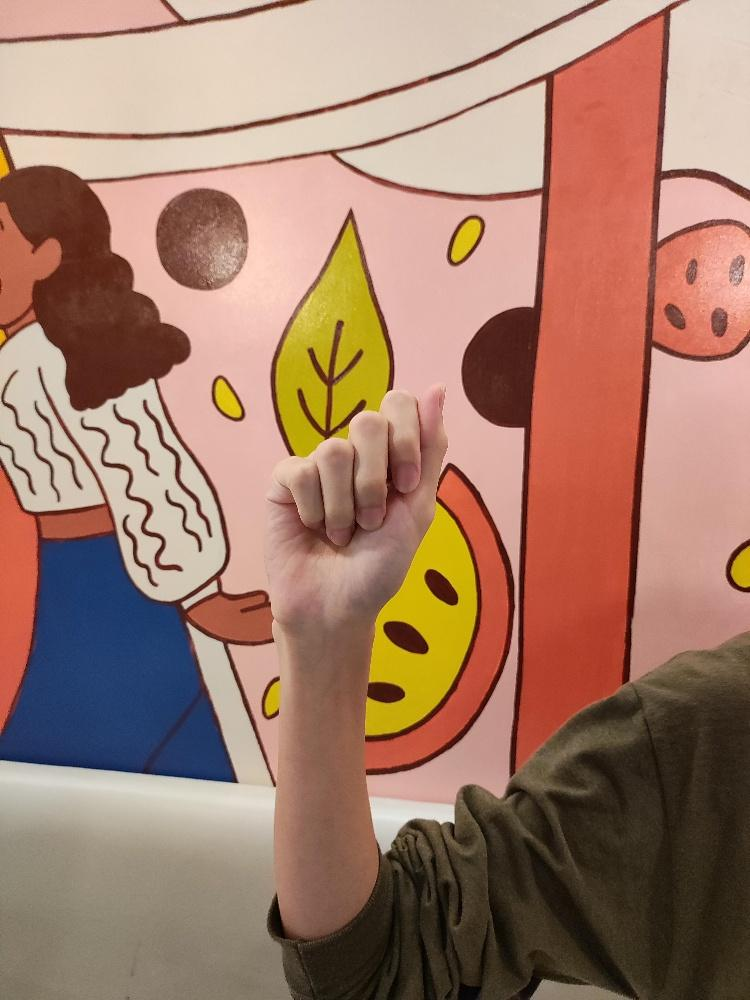a: (257, 379, 452, 640)
